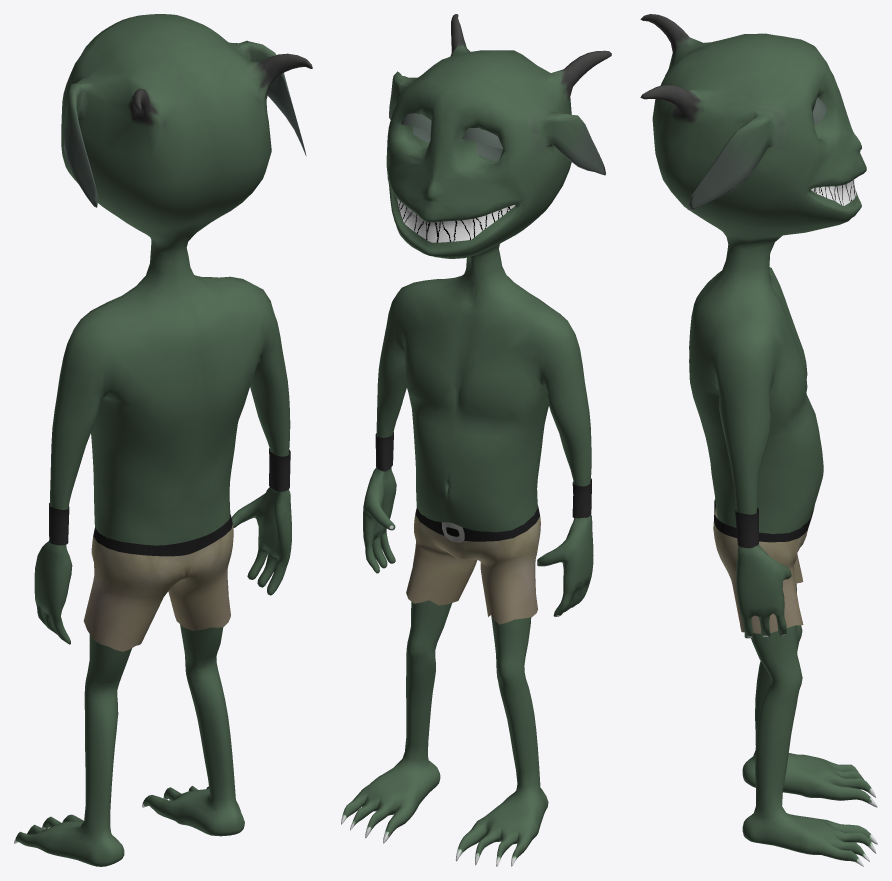
Rendered from lwjglcharactergoblin14.obj.
3 views of the same model, side by side, from view 1: azimuth 30°, elevation 25°; view 2: azimuth 150°, elevation 25°; view 3: azimuth 270°, elevation 25° (orthographic). The views are drawn at different scales.
Parts seen in each view (by area): view 1: Cube.002; view 2: Cube.002; view 3: Cube.002.
Part boxes in pixels (left/top/right/bottom): Cube.002: left=14, top=14, right=312, bottom=866; Cube.002: left=341, top=14, right=611, bottom=866; Cube.002: left=640, top=14, right=877, bottom=866.
Size of the model in its own units: 1.17 by 3.85 by 1.06.
